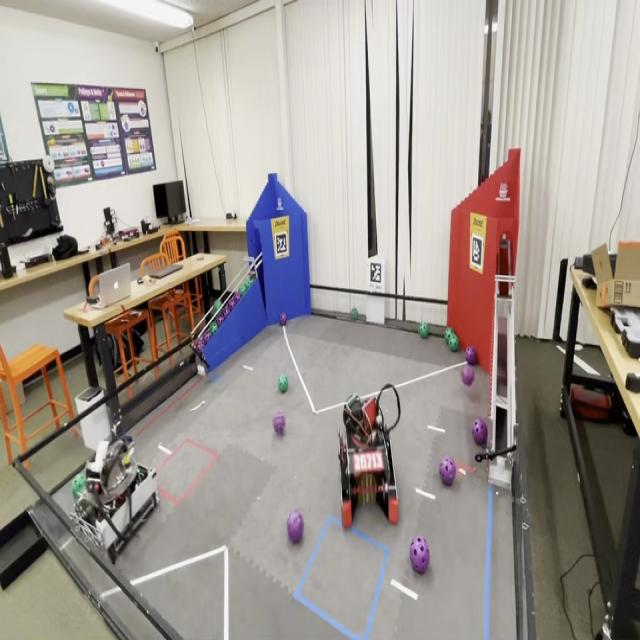artifact_green: (72, 473, 85, 502), (193, 338, 203, 359), (278, 374, 288, 393), (448, 334, 459, 351), (419, 322, 429, 338), (445, 330, 455, 343), (444, 328, 454, 341), (202, 332, 211, 346), (232, 292, 241, 305), (209, 322, 218, 335), (444, 330, 453, 342), (213, 299, 221, 312), (351, 307, 359, 319), (244, 279, 252, 291), (244, 275, 253, 285), (244, 278, 252, 289), (240, 284, 247, 296), (447, 328, 455, 335), (451, 332, 458, 338)
artifact_purple: (410, 536, 429, 573), (287, 510, 303, 543), (440, 456, 456, 485), (472, 419, 487, 446), (274, 412, 285, 436), (462, 364, 474, 386), (466, 347, 477, 366), (194, 339, 203, 359), (215, 311, 225, 327), (201, 331, 211, 346), (227, 298, 235, 312), (280, 312, 287, 327), (233, 292, 241, 305), (223, 305, 231, 318)
